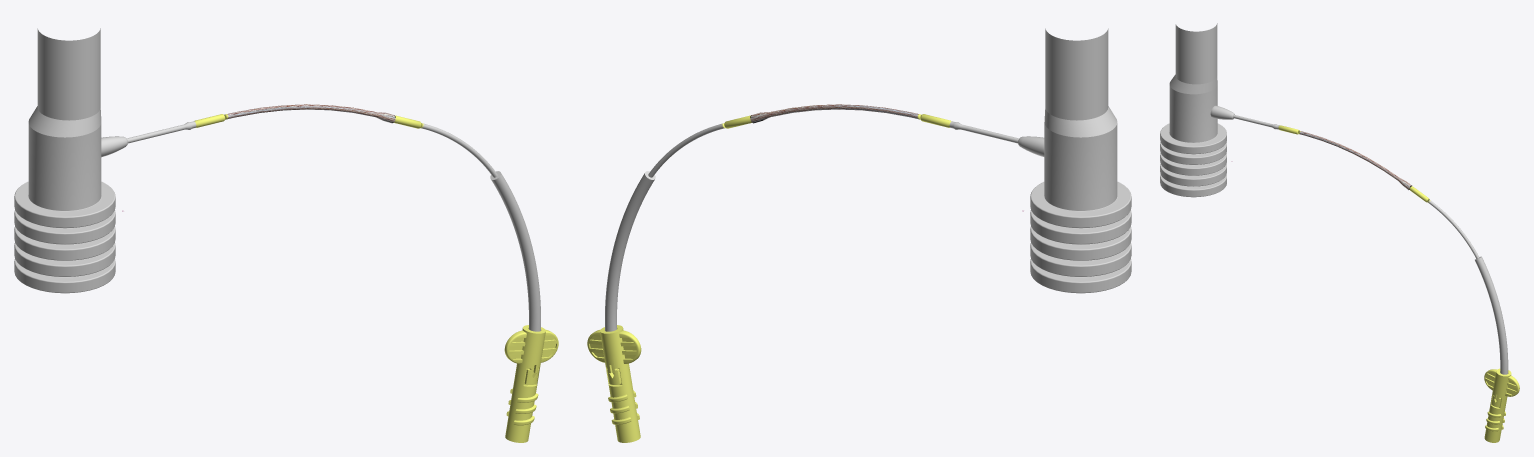
Rendered from HMEtoEntitleO2.glb.
3 views of the same model, side by side, from view 1: azimuth 30°, elevation 25°; view 2: azimuth 150°, elevation 25°; view 3: azimuth 330°, elevation 25° (orthographic). The views are drawn at different scales.
Visible parts, largest first — view 1: Object, Rectangle043, Cylinder025, Cylinder022, Cylinder024; view 2: Object, Rectangle043, Cylinder025, Cylinder022, Cylinder024; view 3: Object, Rectangle043, Cylinder025, Cylinder022.
Part boxes in pixels (left/top/right/bottom): Object: left=14, top=28, right=115, bottom=293; Rectangle043: left=504, top=325, right=558, bottom=442; Cylinder025: left=490, top=171, right=540, bottom=331; Cylinder022: left=227, top=104, right=395, bottom=123; Cylinder024: left=421, top=123, right=497, bottom=177; Object: left=1030, top=28, right=1131, bottom=293; Rectangle043: left=587, top=325, right=641, bottom=442; Cylinder025: left=605, top=171, right=655, bottom=331; Cylinder022: left=750, top=104, right=918, bottom=123; Cylinder024: left=648, top=123, right=724, bottom=177; Object: left=1160, top=23, right=1226, bottom=197; Rectangle043: left=1484, top=368, right=1519, bottom=442; Cylinder025: left=1475, top=256, right=1508, bottom=374; Cylinder022: left=1299, top=131, right=1411, bottom=189.
Size of the model in its own units: 3.3 by 3.07 by 0.5403.
Materials: 4 (1 with a texture image).
